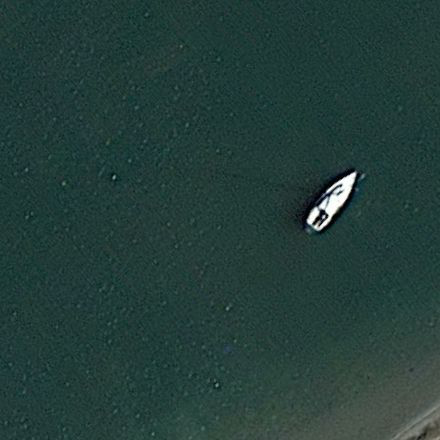boat: (301, 166, 358, 235)
